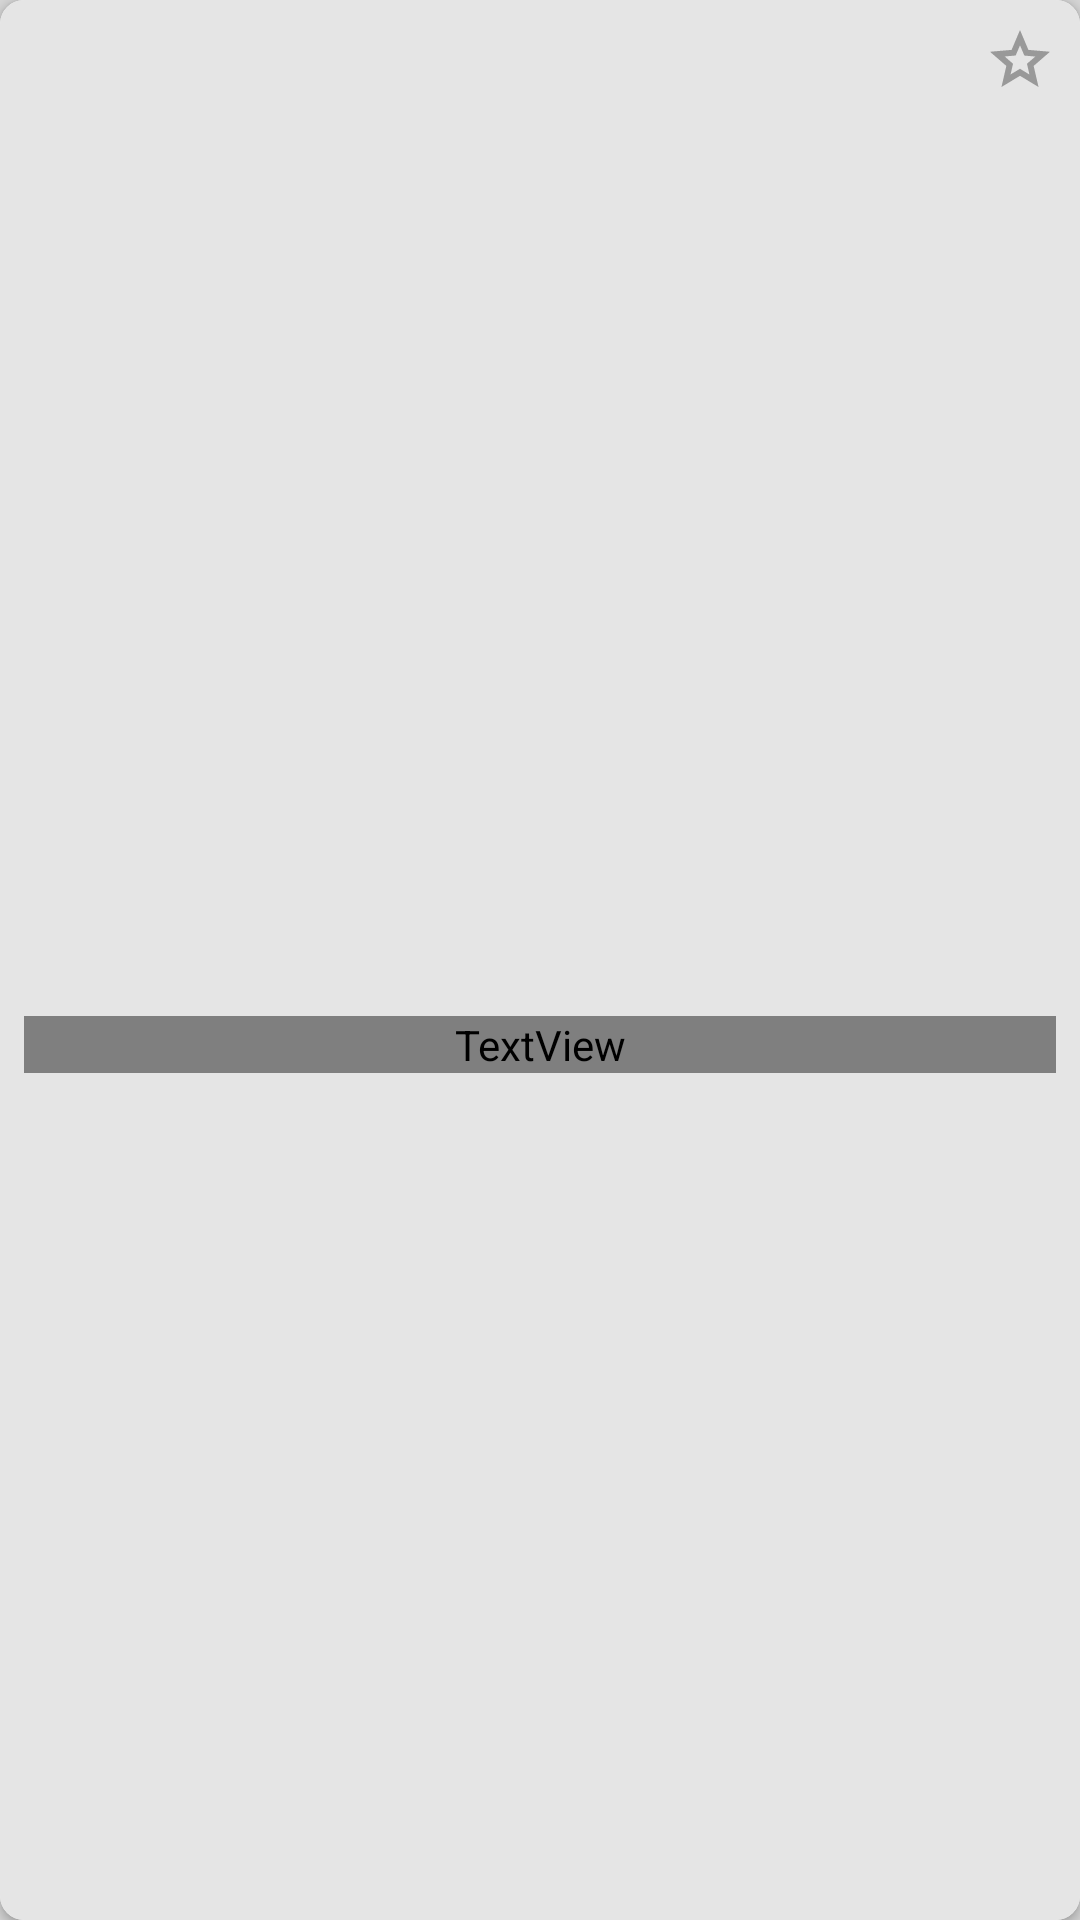

Where icons sit on this 1080 × 1920 app screen, as (x1, y1, x2, y2):
Favourite Pdf: (991, 31, 1049, 87)
